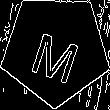M_N: (27, 18, 84, 81)
